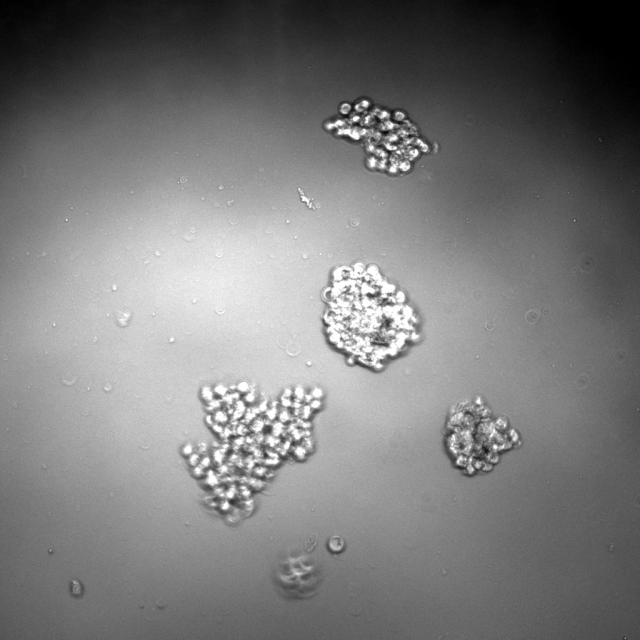organoid: (181, 381, 323, 524), (322, 262, 419, 369), (323, 96, 433, 176), (445, 396, 521, 475), (272, 548, 322, 599), (327, 535, 345, 554), (69, 578, 84, 598)
